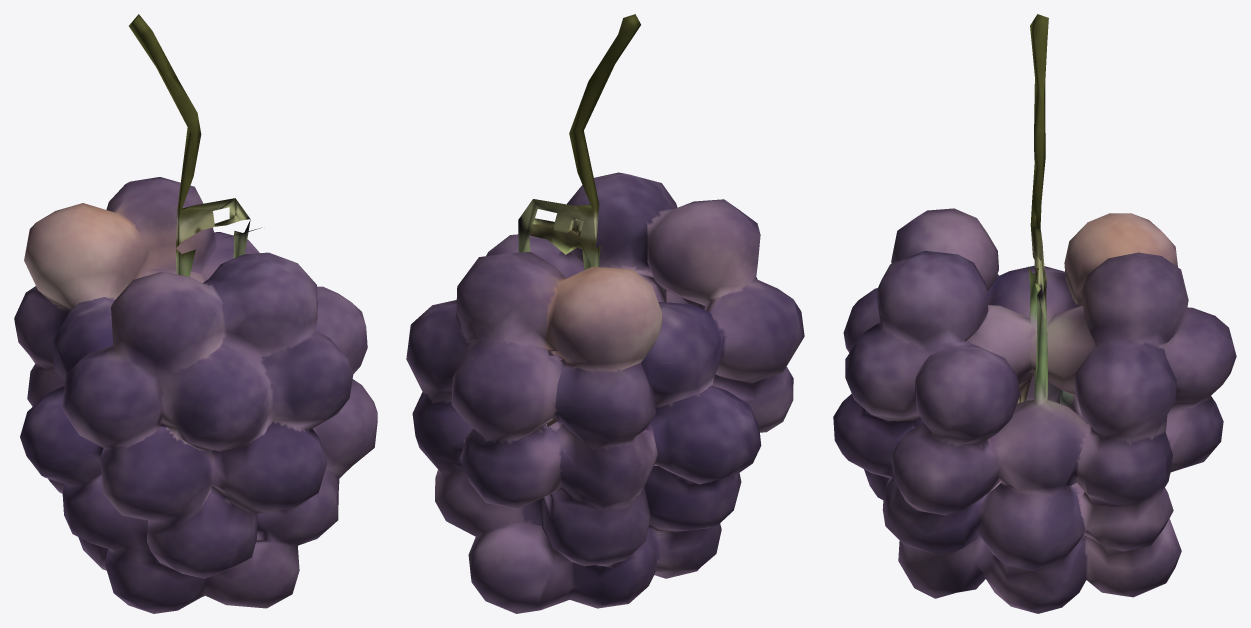
3 views of the same model, side by side, from view 1: azimuth 30°, elevation 25°; view 2: azimuth 150°, elevation 25°; view 3: azimuth 270°, elevation 25° (orthographic). The views are drawn at different scales.
Visible parts, largest first — view 1: part_0_body.005_5; view 2: part_0_body.005_5; view 3: part_0_body.005_5.
Part boxes in pixels (x1,y1,x2,y2): part_0_body.005_5: [14, 14, 377, 613]; part_0_body.005_5: [406, 14, 804, 613]; part_0_body.005_5: [833, 14, 1236, 613].
Size of the model in its own units: 0.0869 by 0.1571 by 0.1041.
1 material, 1 textured.
